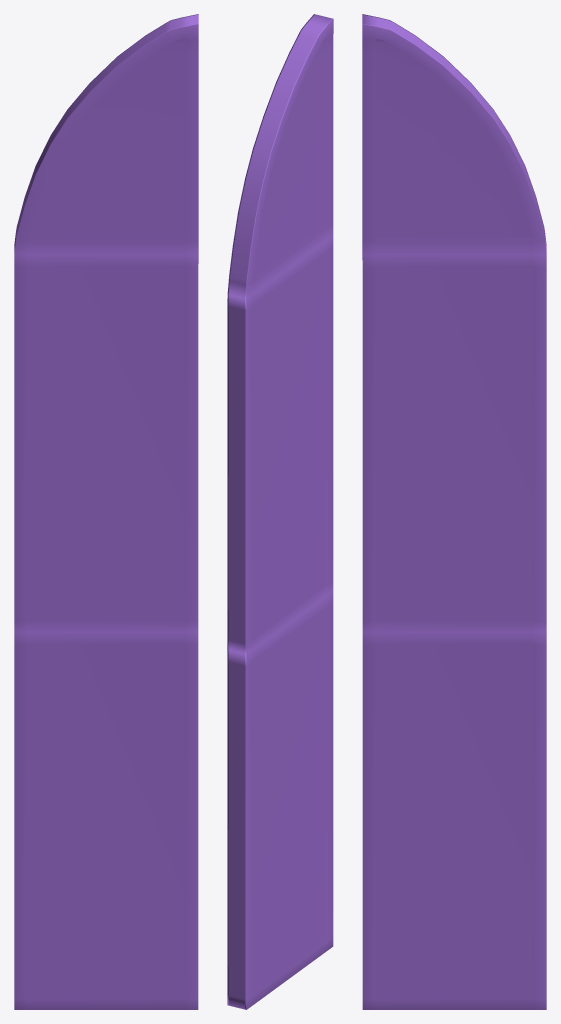
File: Door_02_L_Lod0.fbx
3 views of the same model, side by side, from view 1: azimuth 90°, elevation 25°; view 2: azimuth 150°, elevation 25°; view 3: azimuth 270°, elevation 25° (orthographic). The views are drawn at different scales.
Parts seen in each view (by area): view 1: Door_02_L_Lod0; view 2: Door_02_L_Lod0; view 3: Door_02_L_Lod0.
Part boxes in pixels (x1,y1,x2,y2): Door_02_L_Lod0: (14, 14, 198, 1009); Door_02_L_Lod0: (227, 14, 333, 1009); Door_02_L_Lod0: (362, 14, 546, 1009).
Bounding box in the file's own units: 8.73 × 391 × 66.3.
